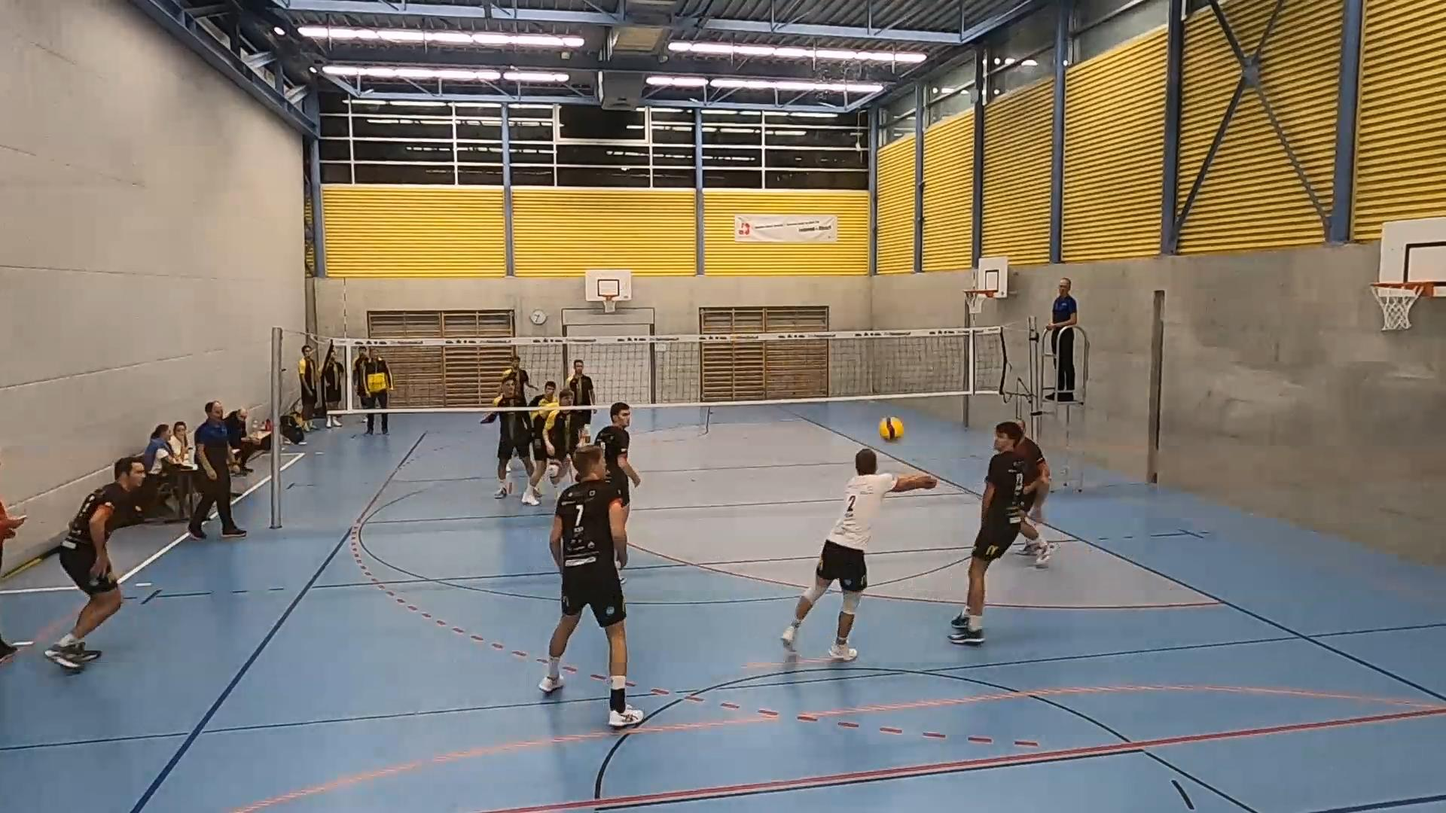Player: (539, 446, 643, 728), (44, 457, 145, 670), (950, 422, 1025, 644), (522, 390, 581, 505), (482, 379, 533, 498), (1014, 419, 1054, 567), (594, 402, 640, 520), (594, 402, 640, 516), (521, 381, 557, 504), (544, 390, 584, 485), (566, 358, 596, 406)
Receive: (783, 449, 941, 666)
ball: (878, 420, 905, 442)
